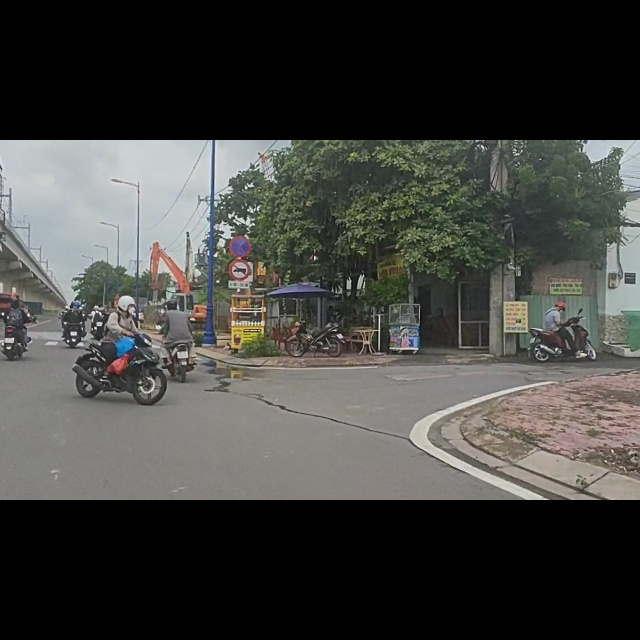bien_cam: (229, 169, 252, 209), (228, 212, 252, 249)
